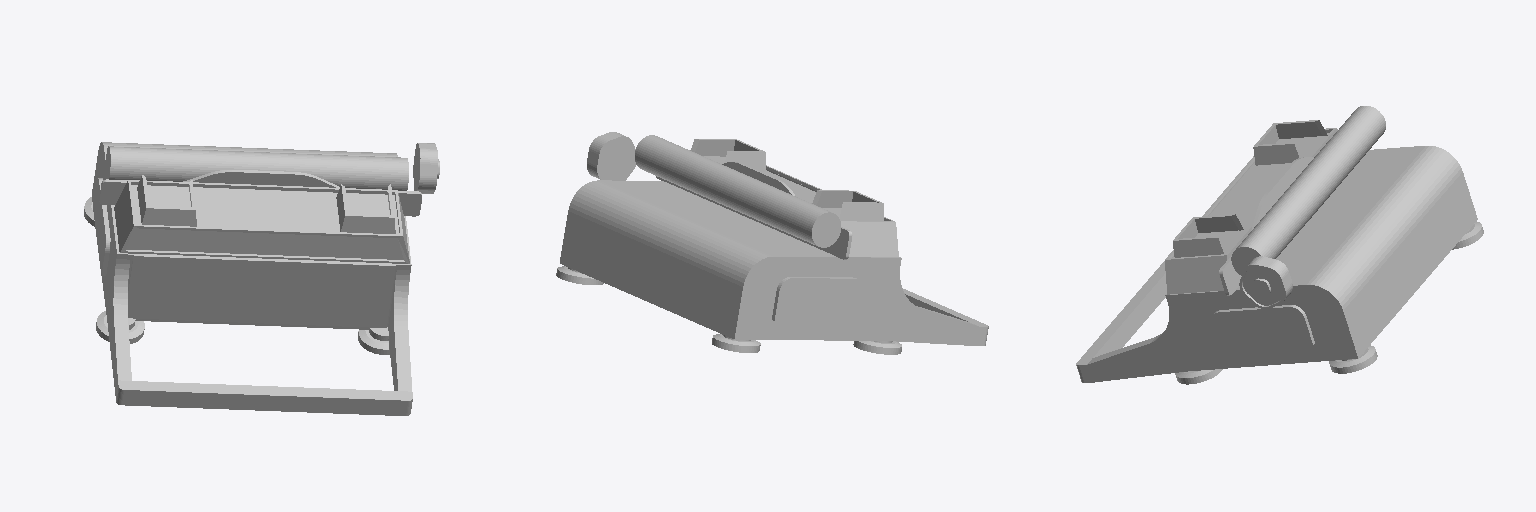
File: typewriterFrame.obj
The picture shows the model from 3 angles: view 1: azimuth 30°, elevation 25°; view 2: azimuth 150°, elevation 25°; view 3: azimuth 270°, elevation 25°; orthographic projection.
Size of the model in its own units: 2 by 1.07 by 1.98.